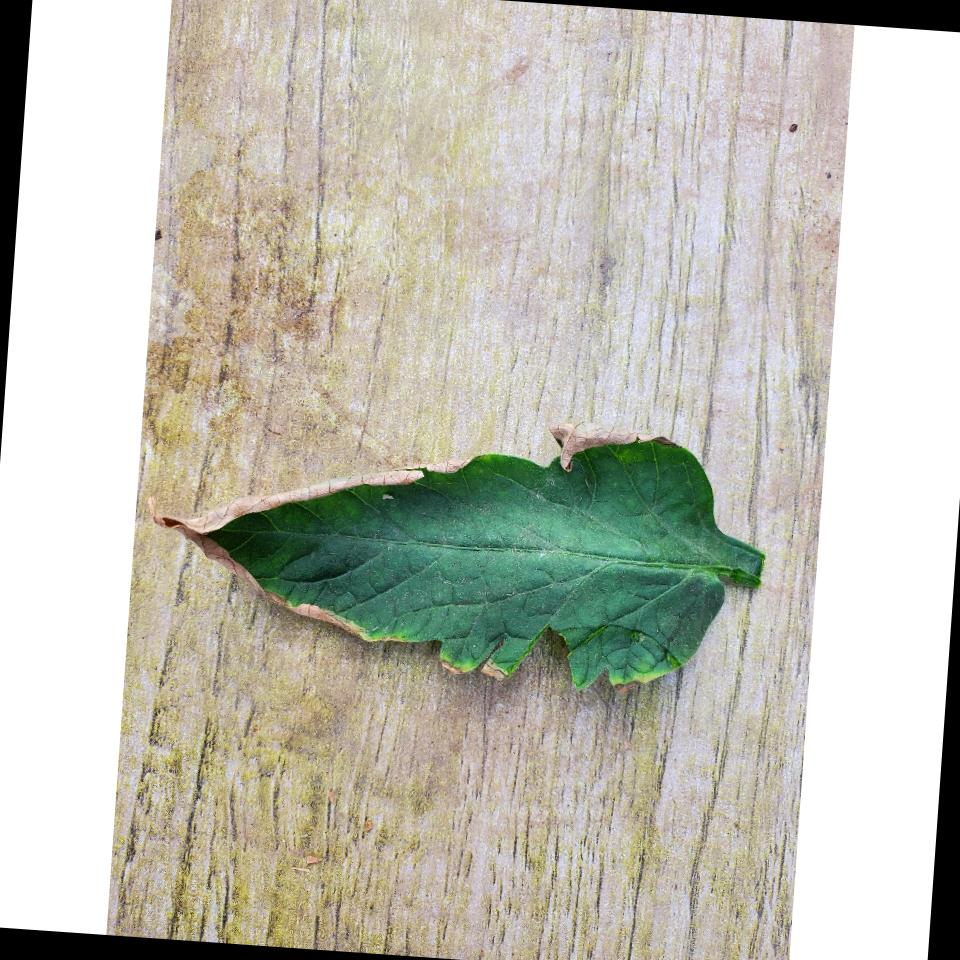tomato_bacterial_blight: (135, 394, 806, 727)
